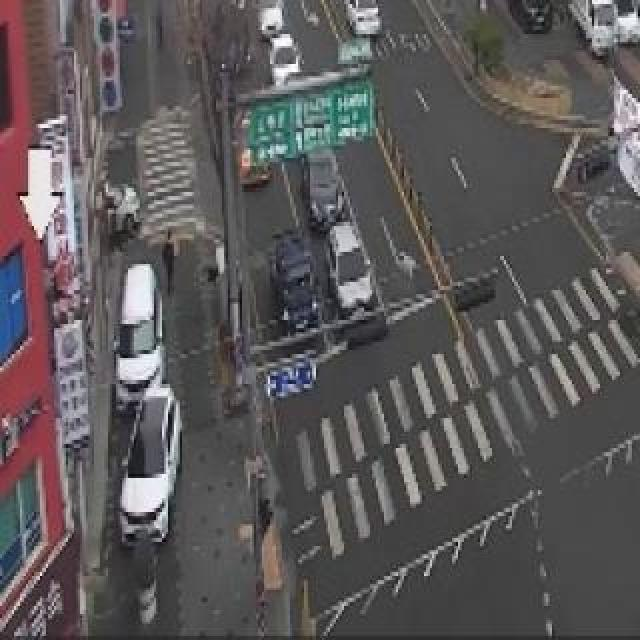truck: (267, 228, 323, 342), (566, 0, 618, 62)
